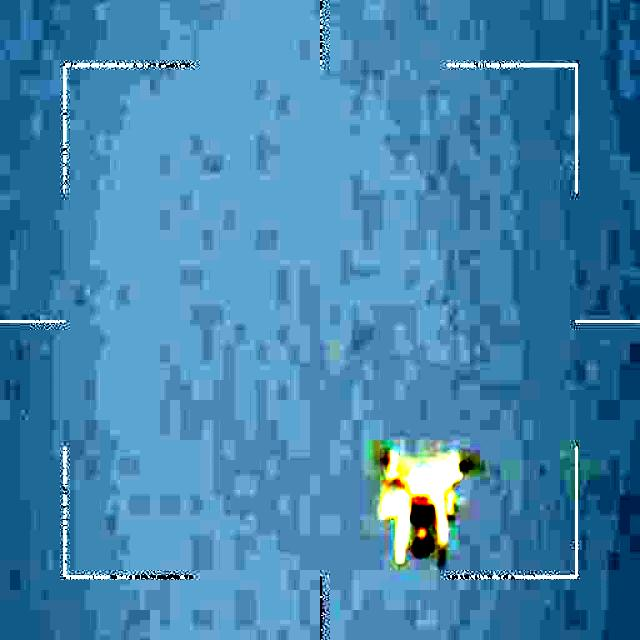bird: (370, 449, 470, 568)
